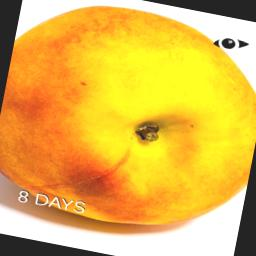Peach Unripe: (0, 0, 256, 249)
